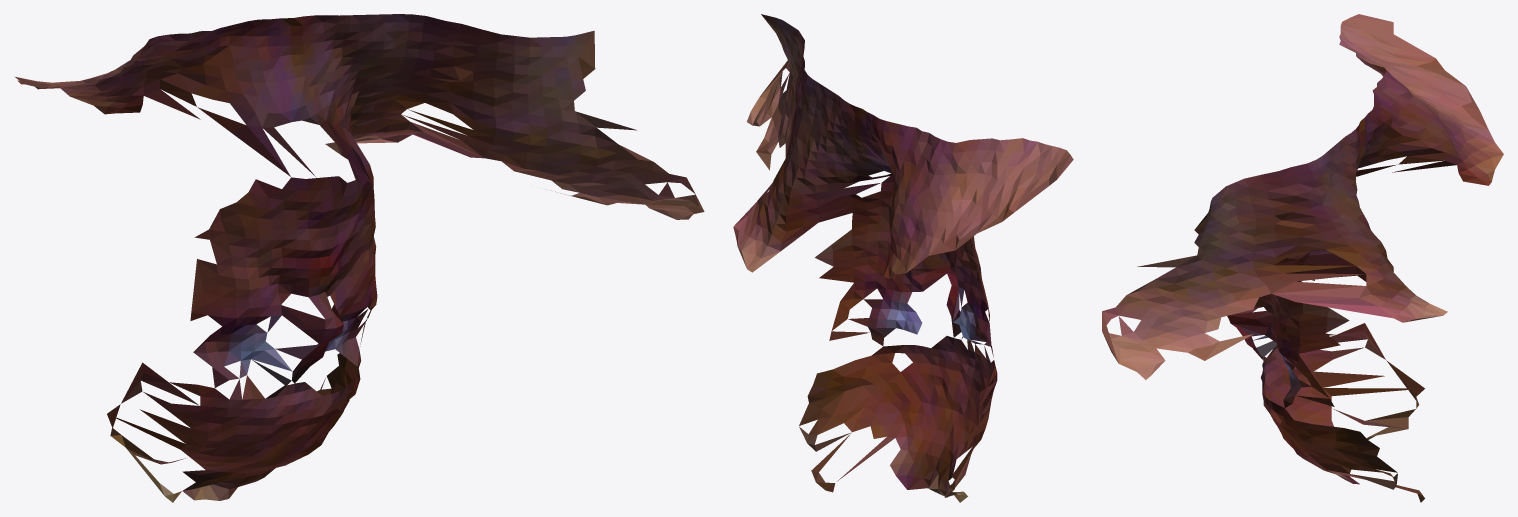
3 views of the same model, side by side, from view 1: azimuth 30°, elevation 25°; view 2: azimuth 150°, elevation 25°; view 3: azimuth 270°, elevation 25° (orthographic). The views are drawn at different scales.
Visible parts, largest first — view 1: ofMesh; view 2: ofMesh; view 3: ofMesh.
Boxes of the visible parts, x1,y1,x2,y2 form: ofMesh: (15, 14, 704, 502); ofMesh: (733, 14, 1073, 502); ofMesh: (1102, 14, 1503, 502).
Size of the model in its own units: 342 by 282 by 266.
Materials: 1 (1 with a texture image).
